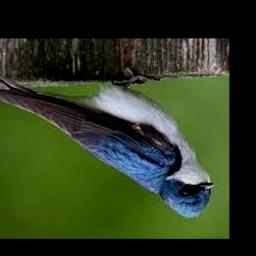Swallow: (0, 73, 215, 220)
